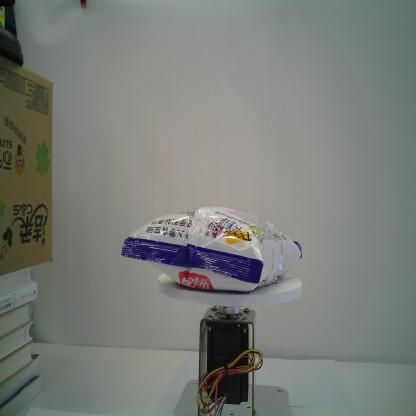Puffed Food: (120, 205, 303, 294)
